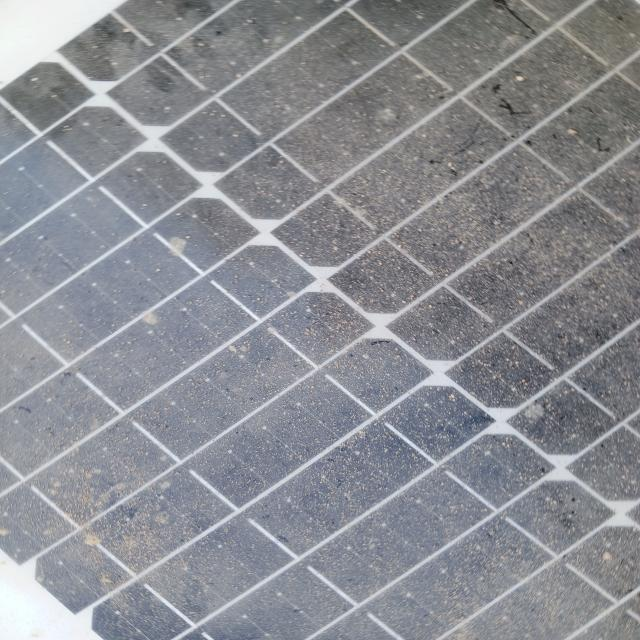Anomaly Solar Panel: (5, 7, 629, 637)
Surface Contaminant: (14, 17, 620, 631)
